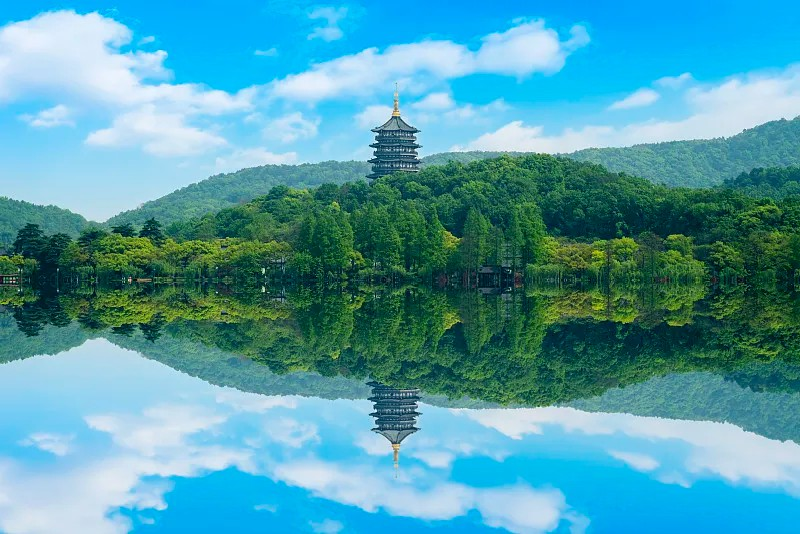Leifeng: (364, 81, 422, 183)
